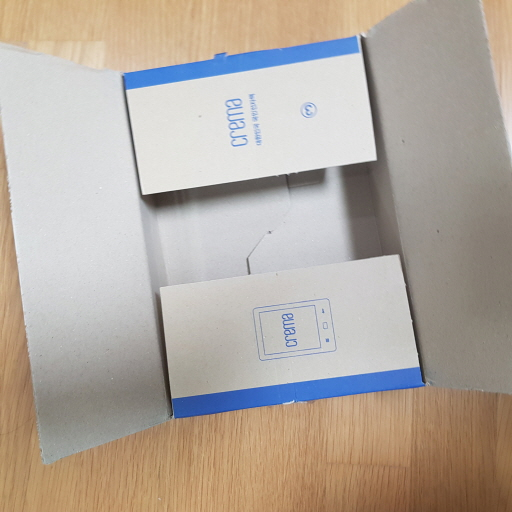Paper_0: (1, 1, 512, 469)
